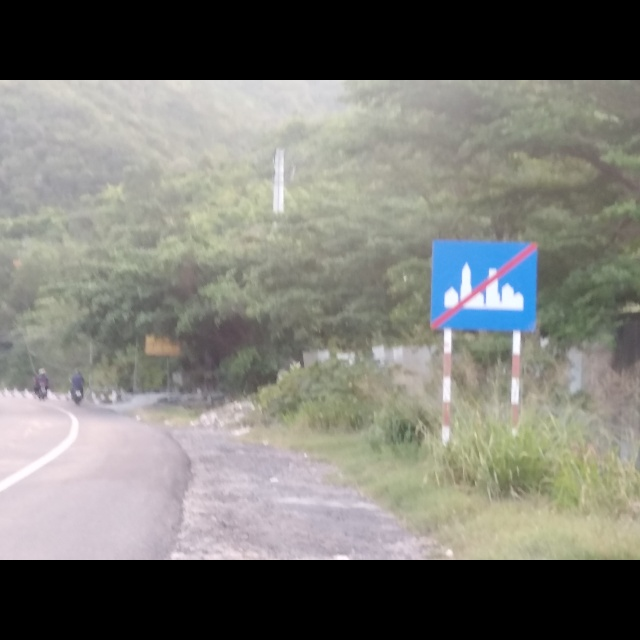Hết khu đông dân cư: (430, 236, 539, 331)
